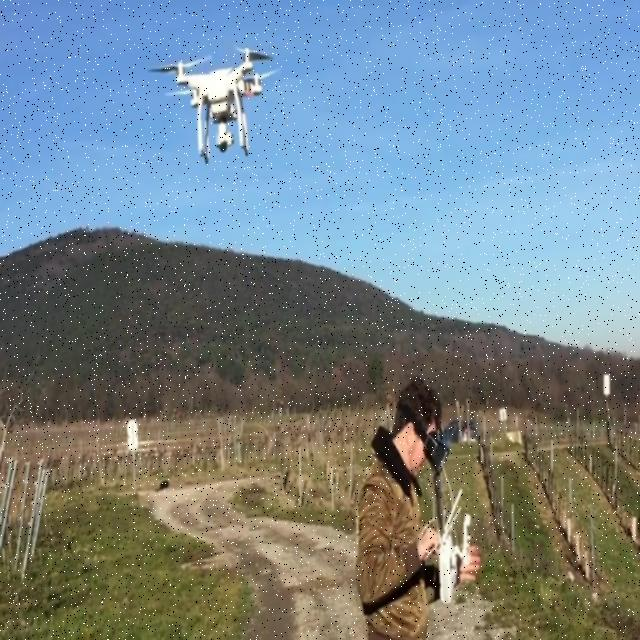UAV: (171, 43, 267, 166)
